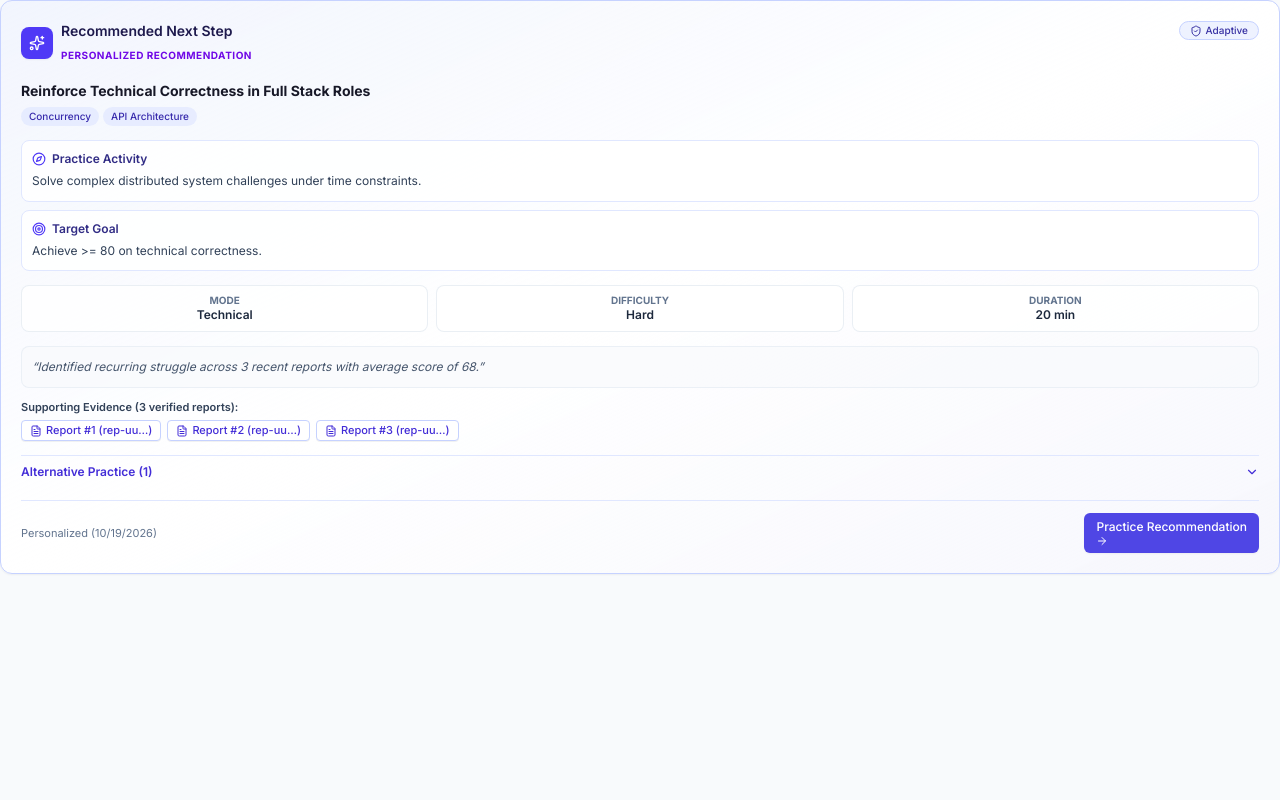
Test: RecommendationWidget › renders full personalized recommendation with evidence grounding and supporting report links
The width and height of the screenshot is (1280, 800).
Expected: the text "Personalized Recommendation" is shown, [61,49,252,61]
Expected: the heading "Reinforce Technical Correctness in Full Stack Roles" is shown, [21,82,370,99]
Expand accordion
Click the button "Alternative Practice (1)": (82, 472) [21,460,1259,484]
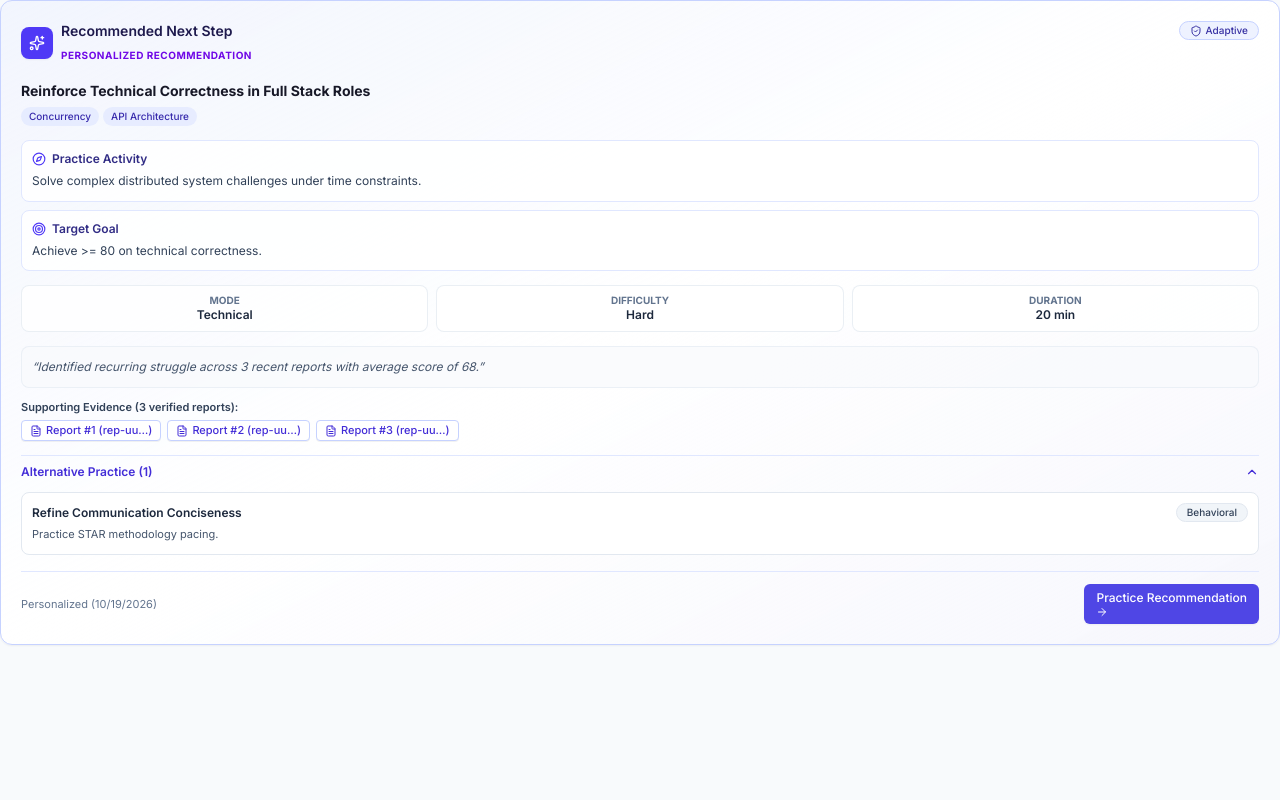
Expected: the text "Refine Communication Conciseness" is shown, [32,505,242,521]
Expected: the text "Practice STAR methodology pacing." is shown, [32,528,218,542]
